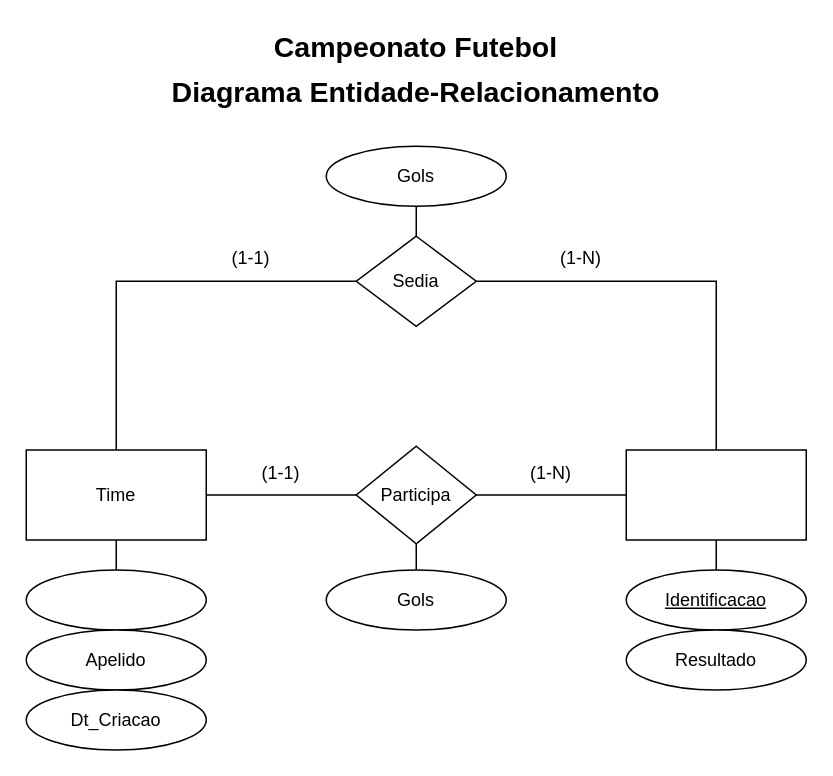
Some shapes in this 833 by 776 pixel diagram are drawn without their labels. Here are the shapes that lost their labels. From the top down, the box of each, then its label:
(625, 448, 806, 540): Partida
(25, 568, 206, 630): Nome
